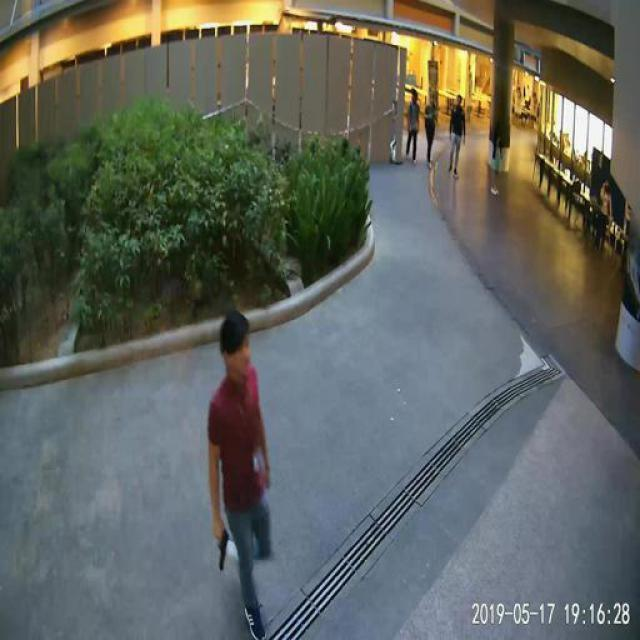weapon: (214, 530, 231, 572)
